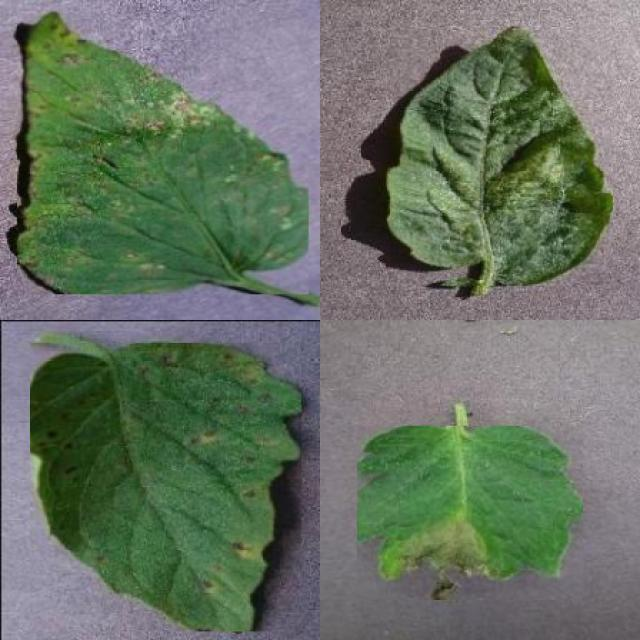Late Blight: (358, 426, 582, 600)
Septoria: (17, 12, 309, 294), (30, 342, 301, 632)
Spider Mites: (386, 26, 613, 286)
